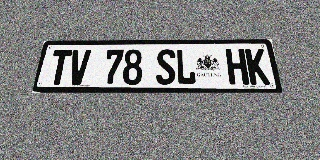7: (102, 49, 124, 85)
8: (122, 49, 143, 85)
H: (225, 49, 249, 85)
K: (245, 49, 270, 85)
L: (176, 49, 196, 85)
S: (156, 49, 176, 85)
T: (47, 50, 72, 85)
V: (67, 50, 91, 85)
